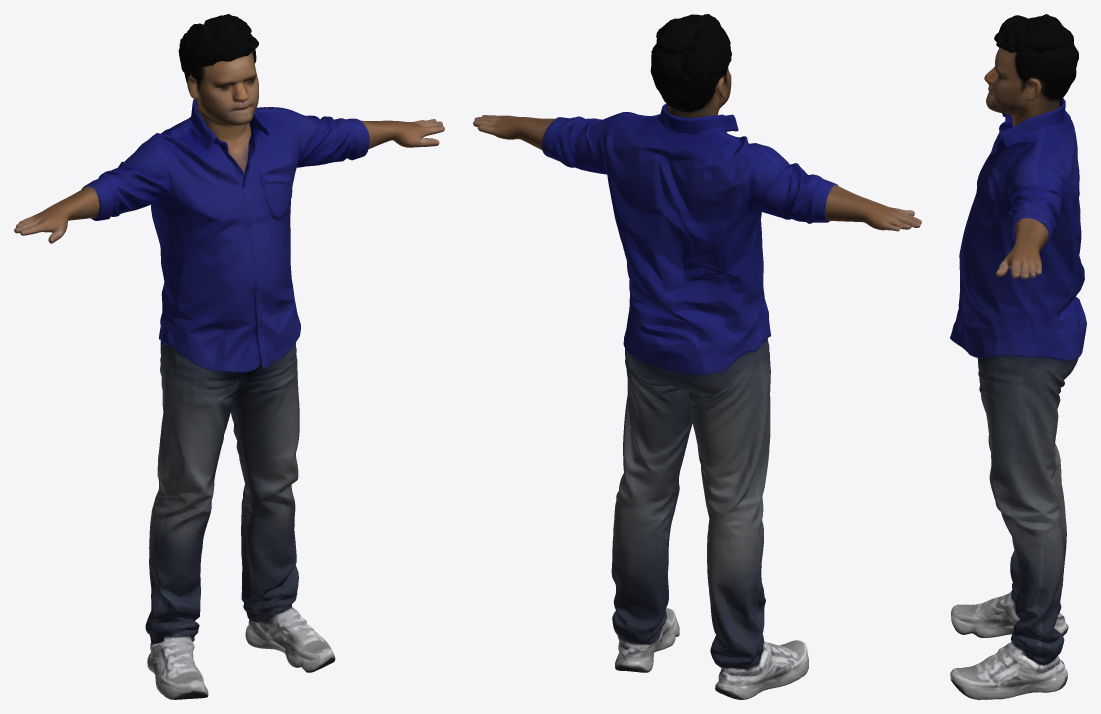
The model's file is sample_2026-11-12T222514.167.glb.
The picture shows the model from 3 angles, left to right: view 1: azimuth 30°, elevation 25°; view 2: azimuth 150°, elevation 25°; view 3: azimuth 270°, elevation 25°; orthographic projection. The views are drawn at different scales.
Visible parts, largest first — view 1: world; view 2: world; view 3: world.
Part boxes in pixels (box(x1,y1,x2,y2)): world: box(14, 14, 444, 699); world: box(473, 14, 921, 699); world: box(950, 14, 1086, 699).
Bounding box in the file's own units: 0.7081 × 1 × 0.194.
Materials: 1 (1 with a texture image).
